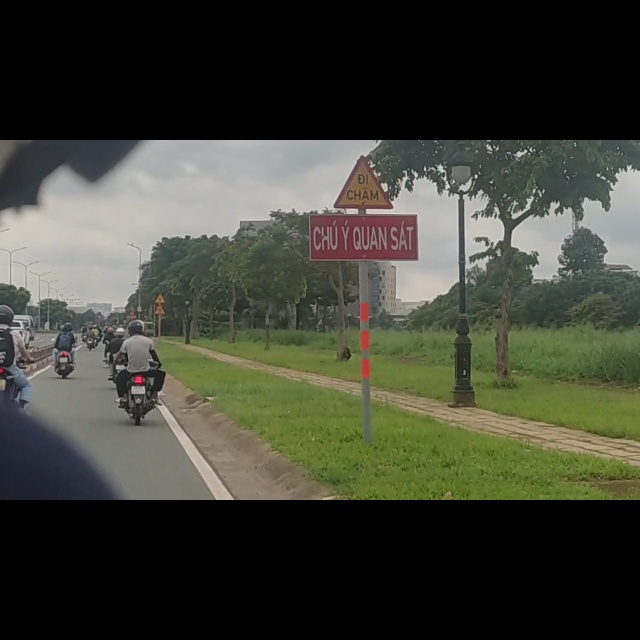bien_nguy_hiem: (333, 28, 393, 121), (153, 271, 167, 290), (154, 294, 166, 311)
